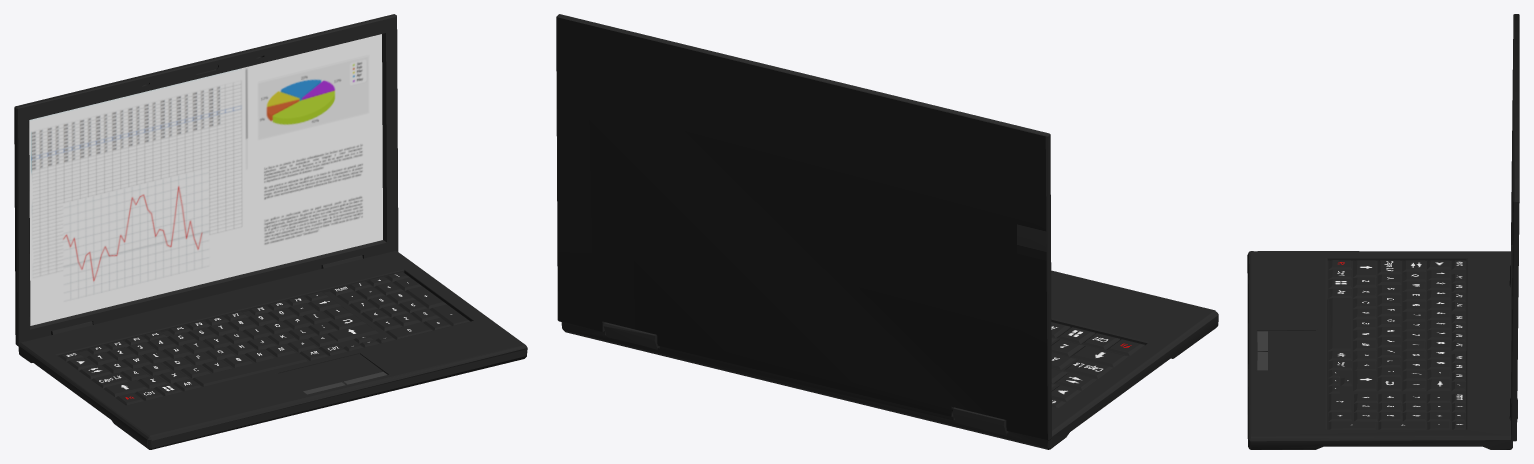
The model's file is Labtop 3.fbx.
The picture shows the model from 3 angles, left to right: view 1: azimuth 30°, elevation 25°; view 2: azimuth 150°, elevation 25°; view 3: azimuth 270°, elevation 25°; orthographic projection. The views are drawn at different scales.
Parts seen in each view (by area): view 1: Laptop 1; view 2: Laptop 1; view 3: Laptop 1.
Part boxes in pixels (x1,y1,x2,y2): Laptop 1: (14, 14, 527, 449); Laptop 1: (556, 14, 1218, 449); Laptop 1: (1247, 14, 1519, 449).
Size of the model in its own units: 46.54 by 28.91 by 28.46.
